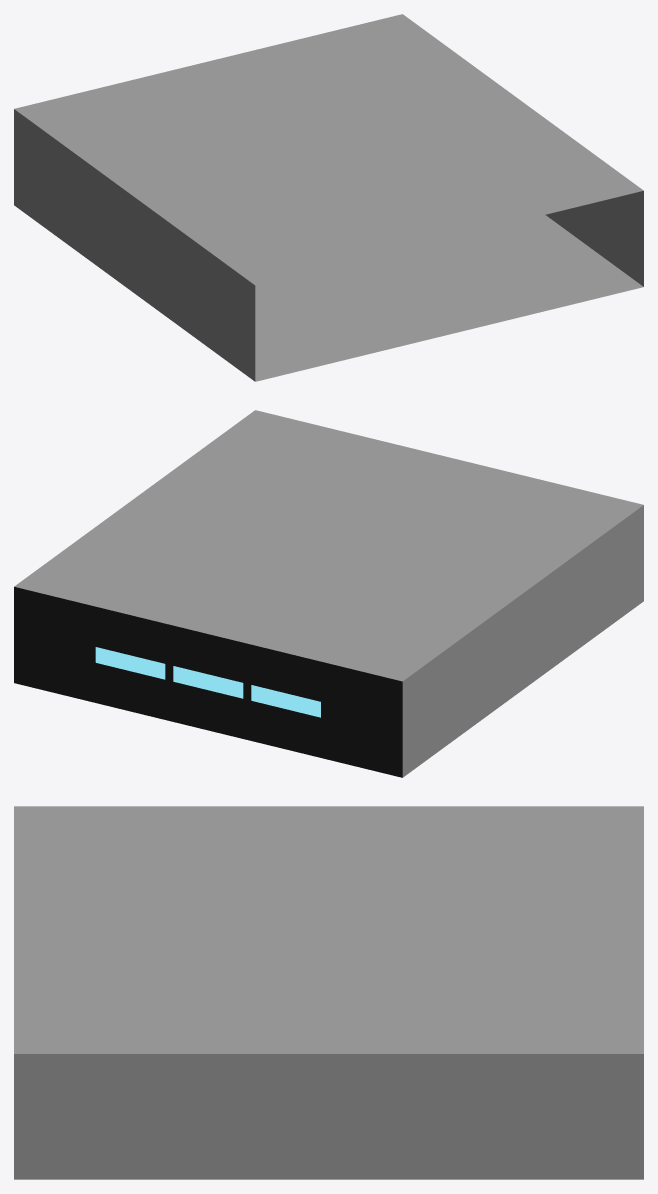
File: DC_Drawer_3.glb
3 renders of one model, top to bottom at view 1: azimuth 30°, elevation 25°; view 2: azimuth 150°, elevation 25°; view 3: azimuth 270°, elevation 25°, orthographic. The views are drawn at different scales.
Parts seen in each view (by area): view 1: Drawer.002; view 2: Drawer.002; view 3: Drawer.002.
Part boxes in pixels (bbox=[...]): Drawer.002: bbox=[14, 14, 643, 381]; Drawer.002: bbox=[14, 410, 643, 777]; Drawer.002: bbox=[14, 806, 643, 1179].
Bounding box in the file's own units: 0.7418 × 0.1758 × 0.7977.
